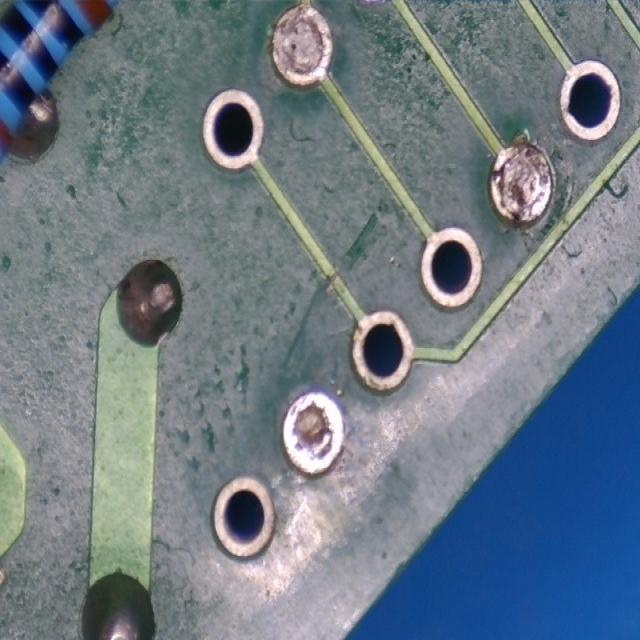Dry_joint: (284, 393, 343, 473), (490, 144, 551, 220), (272, 8, 332, 84)
